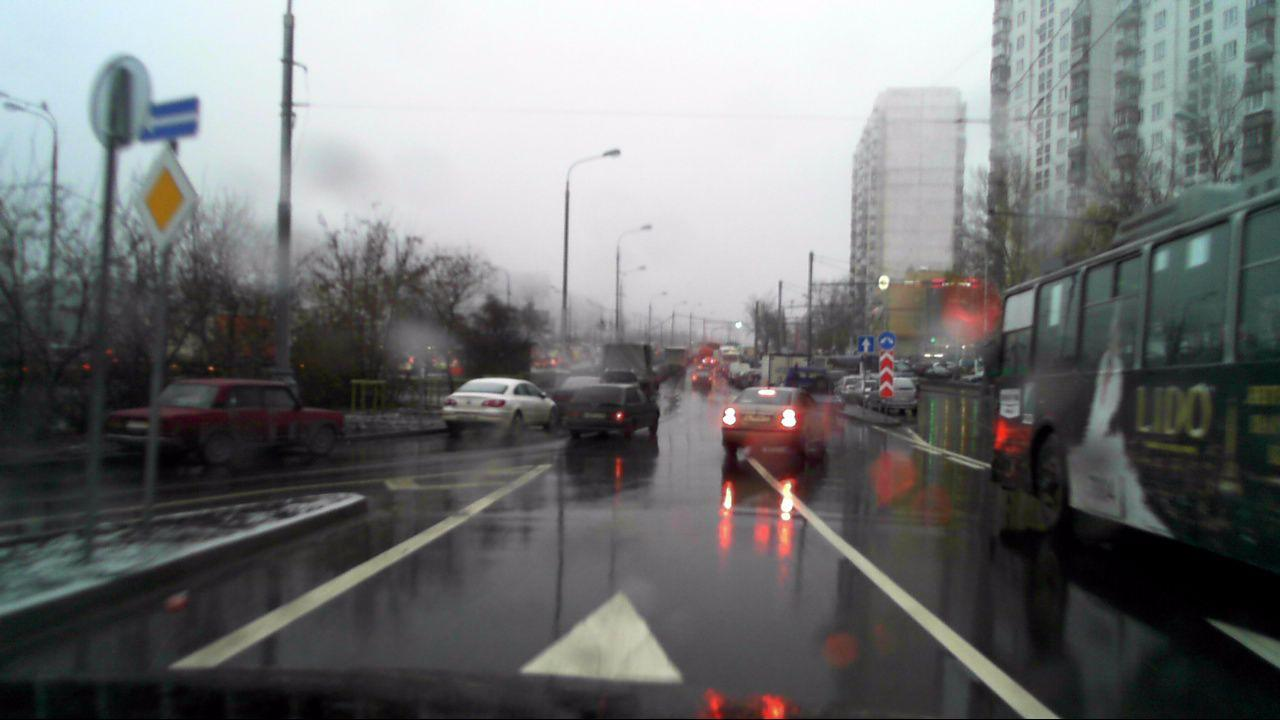road_sign: (134, 139, 201, 253), (140, 95, 200, 141), (879, 351, 893, 398), (879, 332, 896, 350), (858, 336, 874, 352)
